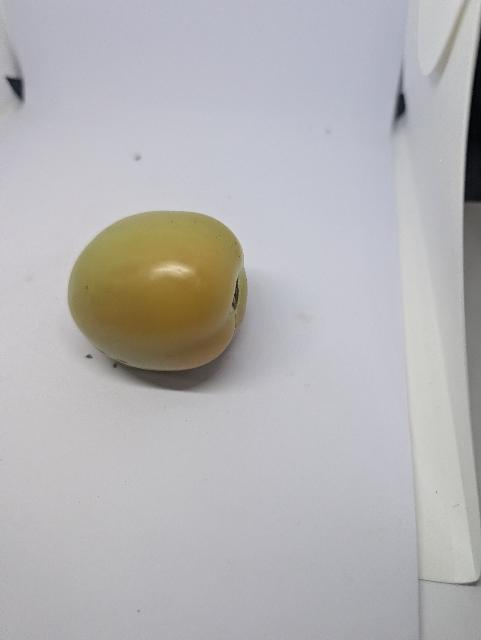breaker: (68, 211, 248, 371)
